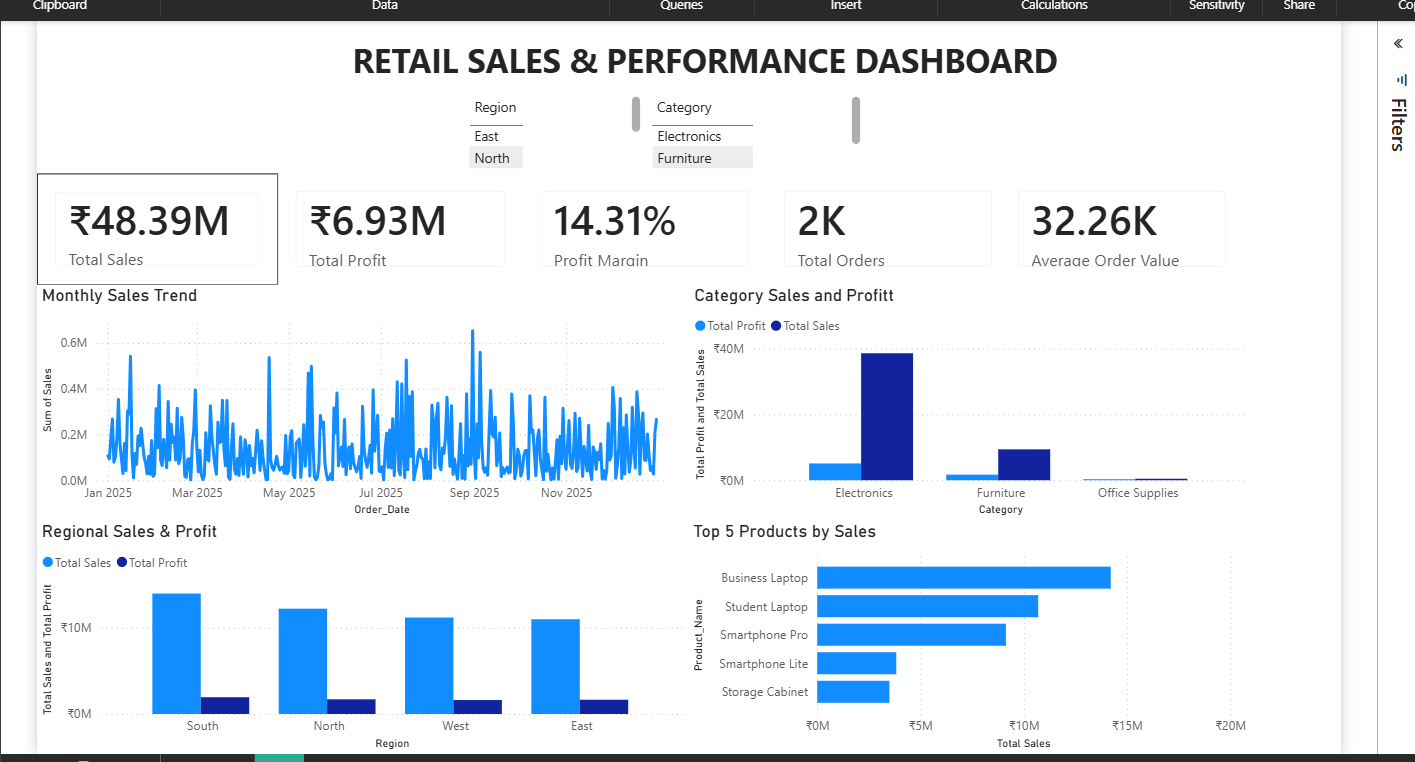

This screenshot's page, from the dashboard's own definition file:
{"tool":"powerbi","page":{"name":"Page 1","canvas":[1280,720],"ordinal":0},"visuals":[{"type":"cardVisual","fields":{"Data":["Raw_Data.Total Sales"]},"box":[0,149.7,236.8,109.2],"z":0},{"type":"cardVisual","fields":{"Data":["Raw_Data.Total Profit"]},"box":[236.8,149.7,240.5,109.2],"z":1000},{"type":"cardVisual","fields":{"Data":["Raw_Data.Profit Margin"]},"box":[477.3,149.7,239.3,109.2],"z":2000},{"type":"cardVisual","fields":{"Data":["Raw_Data.Total Orders"]},"box":[716.6,149.7,238,109.2],"z":3000},{"type":"cardVisual","fields":{"Data":["Raw_Data.Average Order Value"]},"box":[946,149.7,238,109.2],"z":4000},{"type":"lineChart","title":"Monthly Sales Trend","fields":{"Category":["Raw_Data.Order_Date"],"Y":["Sum(Raw_Data.Sales)"]},"box":[0,258.9,639.3,231.9],"z":5000},{"type":"clusteredColumnChart","title":"Category Sales and Profitt","fields":{"Category":["Raw_Data.Category"],"Y":["Raw_Data.Total Profit","Raw_Data.Total Sales"]},"box":[640.5,258.9,553.4,231.9],"z":6000},{"type":"clusteredColumnChart","title":"Regional Sales & Profit","fields":{"Category":["Raw_Data.Region"],"Y":["Raw_Data.Total Sales","Raw_Data.Total Profit"]},"box":[0,490.8,639.3,229.4],"z":7000},{"type":"clusteredBarChart","title":"Top 5 Products by Sales","fields":{"Y":["Raw_Data.Total Sales"],"Category":["Raw_Data.Product_Name"]},"box":[639.3,490.8,553.4,229.4],"z":8000},{"type":"textbox","box":[298.6,12.4,715.3,74.6],"z":9000},{"type":"tableEx","fields":{"Values":["Raw_Data.Region"]},"box":[418.4,68.7,179.1,81],"z":10000},{"type":"tableEx","fields":{"Values":["Raw_Data.Category"]},"box":[597.5,68.7,216,81],"z":10002}]}

Visuals, with their boxes on the page's 1280x720 design canvas (x1, y1, x2, y2). These are canvas units, not pixel positions in the 1415x762 screenshot, which may show the page scaled, cropped or inside an application window:
cardVisual - Raw_Data.Total Sales: 0:150:237:259
cardVisual - Raw_Data.Total Profit: 237:150:477:259
cardVisual - Raw_Data.Profit Margin: 477:150:717:259
cardVisual - Raw_Data.Total Orders: 717:150:955:259
cardVisual - Raw_Data.Average Order Value: 946:150:1184:259
"Monthly Sales Trend" lineChart: 0:259:639:491
"Category Sales and Profitt" clusteredColumnChart: 640:259:1194:491
"Regional Sales & Profit" clusteredColumnChart: 0:491:639:720
"Top 5 Products by Sales" clusteredBarChart: 639:491:1193:720
textbox: 299:12:1014:87
tableEx - Raw_Data.Region: 418:69:598:150
tableEx - Raw_Data.Category: 598:69:814:150
